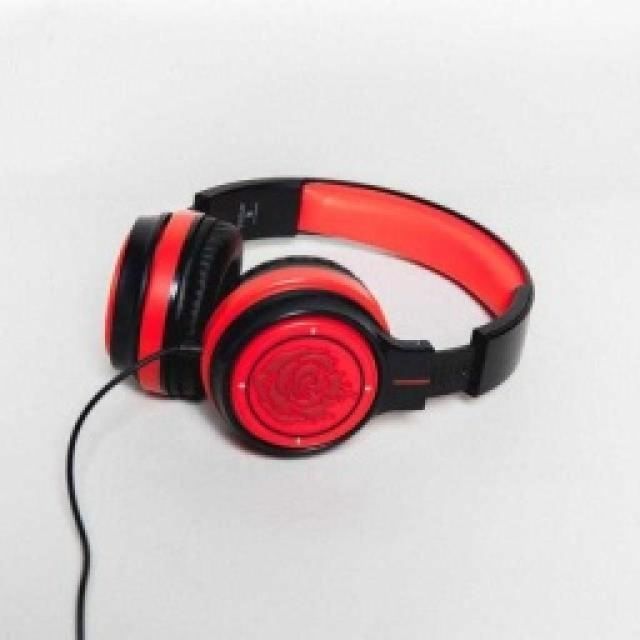headphones: (103, 172, 535, 458)
